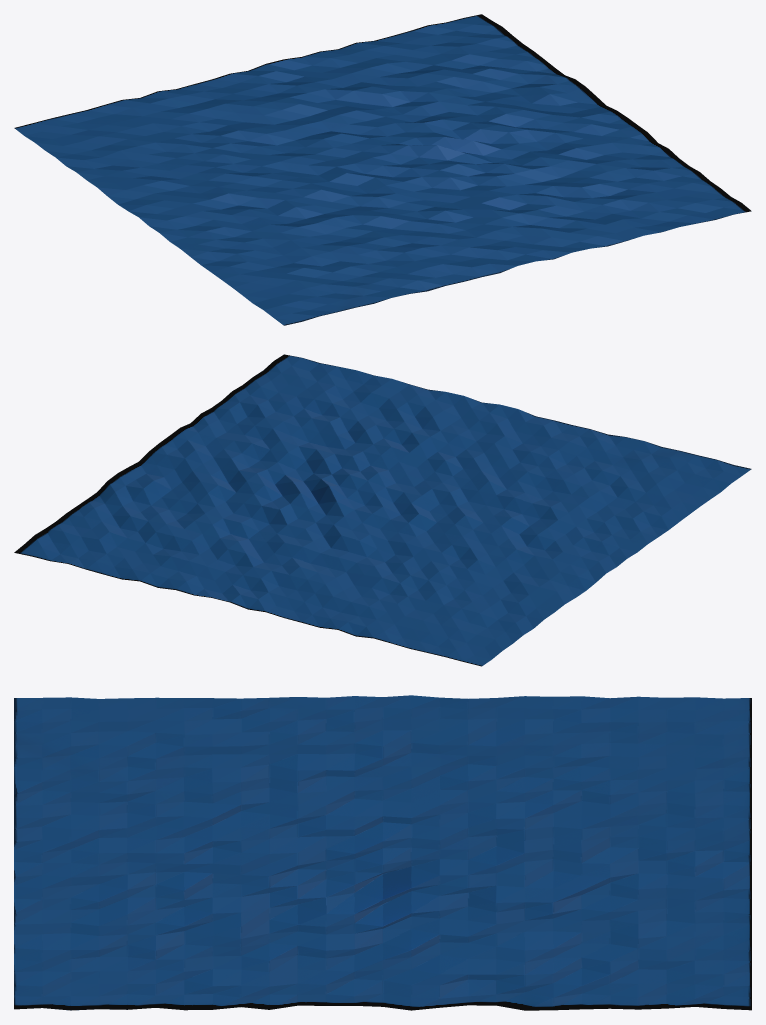
File: Water.obj
3 renders of one model, top to bottom at view 1: azimuth 30°, elevation 25°; view 2: azimuth 150°, elevation 25°; view 3: azimuth 270°, elevation 25°, orthographic. The views are drawn at different scales.
Parts seen in each view (by area): view 1: Water_Grid.001; view 2: Water_Grid.001; view 3: Water_Grid.001.
Boxes of the visible parts, left/top/right/bottom form: Water_Grid.001: left=14, top=14, right=751, bottom=325; Water_Grid.001: left=14, top=354, right=751, bottom=666; Water_Grid.001: left=14, top=695, right=751, bottom=1010.
Size of the model in its own units: 26.53 by 0.6751 by 26.53.
